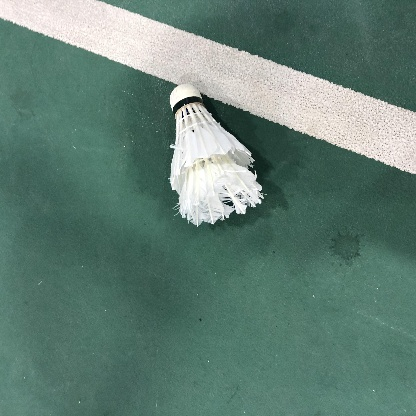ball_single: (170, 84, 264, 226)
